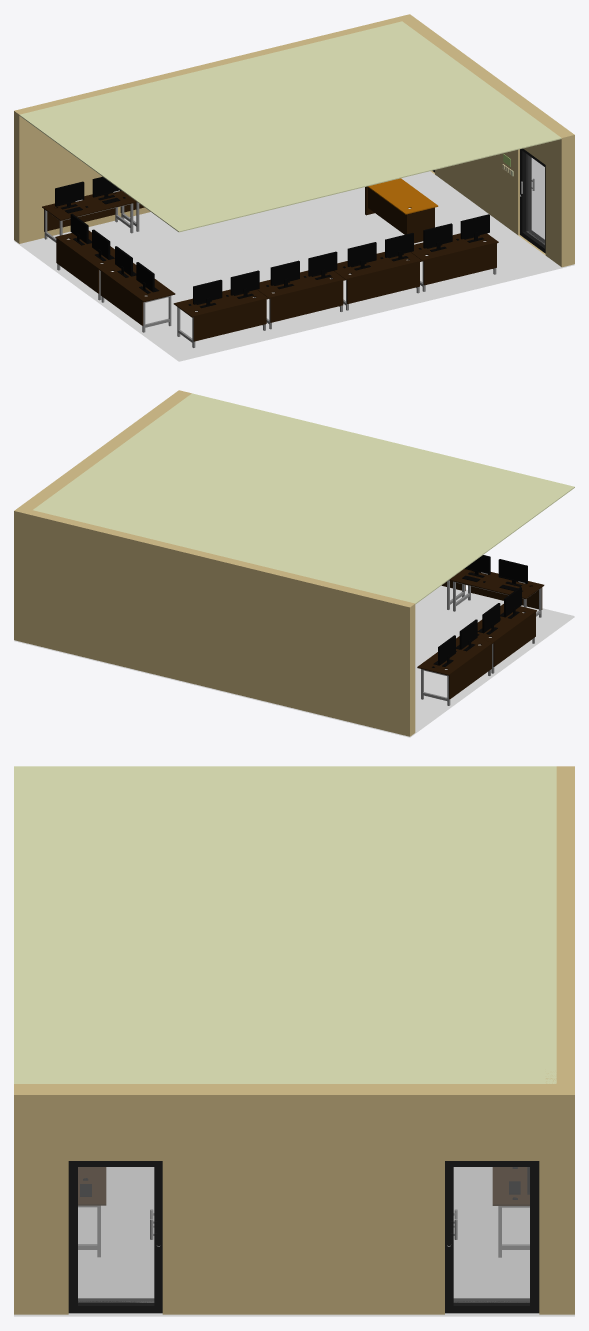
Rendered from CCIS_LabRm1_v1.glb.
3 renders of one model, top to bottom at view 1: azimuth 30°, elevation 25°; view 2: azimuth 150°, elevation 25°; view 3: azimuth 270°, elevation 25°, orthographic. The views are drawn at different scales.
Visible parts, largest first — view 1: Ceiling.001; view 2: Ceiling.001; view 3: Ceiling.001.
Part boxes in pixels (box(x1,y1,x2,y2)): Ceiling.001: box(14, 14, 574, 361); Ceiling.001: box(14, 390, 574, 737); Ceiling.001: box(14, 766, 574, 1316).
Size of the model in its own units: 4.23 by 1.33 by 3.05.
